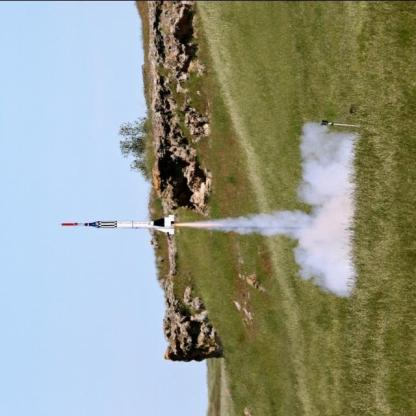MIL_TBM: (84, 220, 154, 230)
